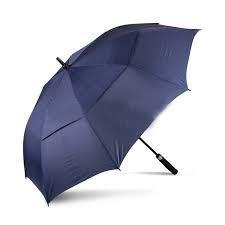Umbrella: (21, 21, 203, 208)
